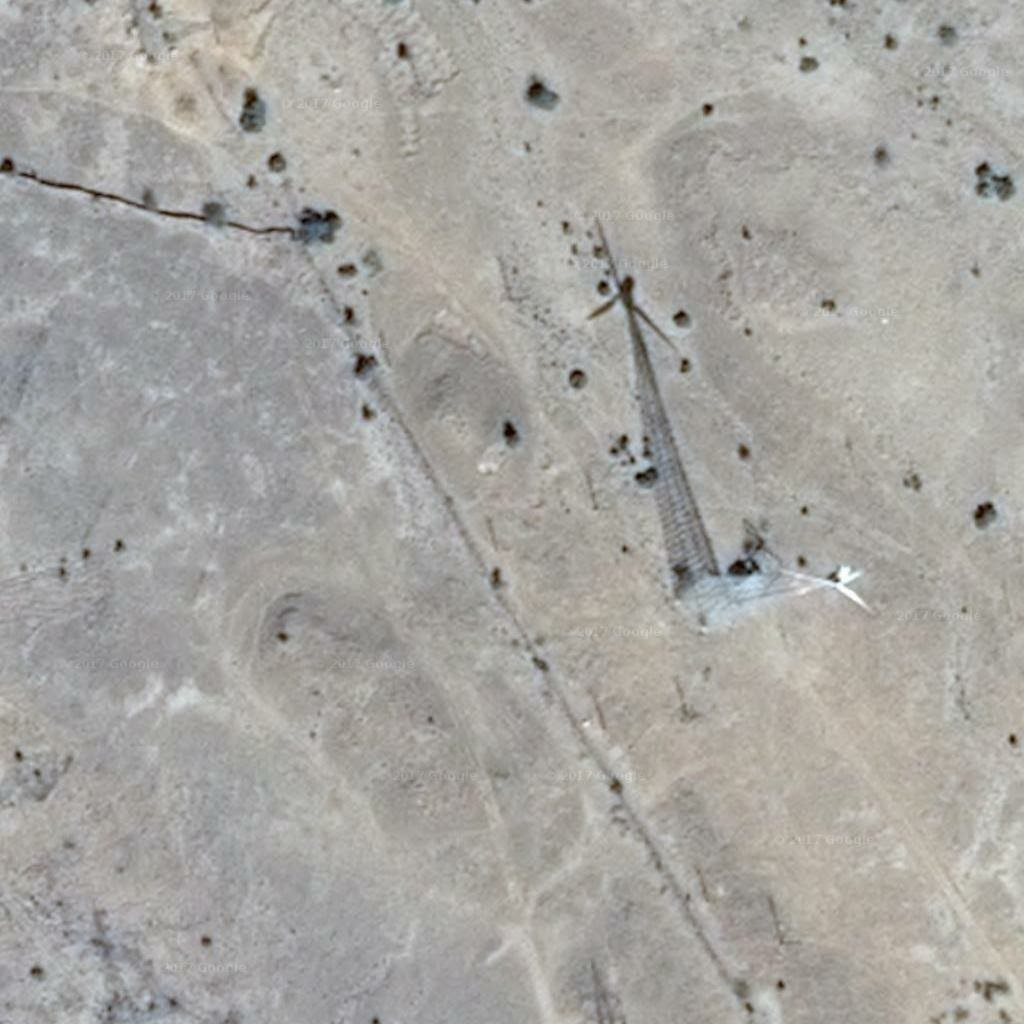Windmill: (573, 211, 741, 608)
